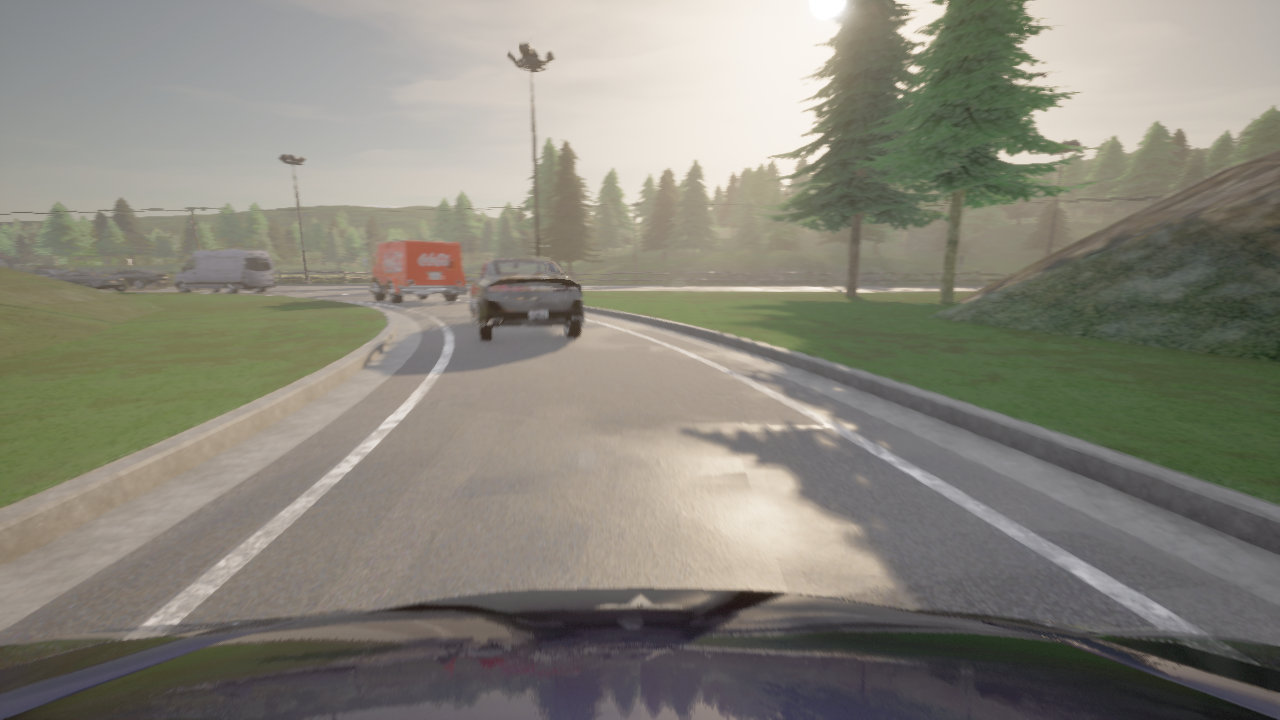cyclist: (0, 588, 1279, 719), (463, 257, 583, 341), (362, 240, 466, 303), (174, 249, 275, 293), (51, 270, 127, 291), (111, 269, 169, 288), (20, 267, 69, 277)
